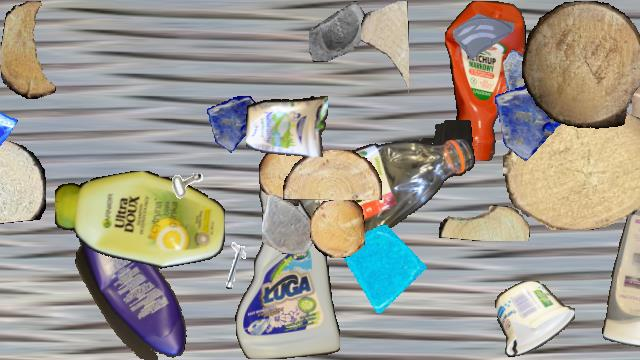glass: (343, 225, 431, 313), (493, 79, 577, 163), (453, 1, 515, 63), (309, 1, 369, 61), (262, 195, 320, 253), (503, 46, 559, 102), (207, 96, 263, 152), (0, 94, 18, 164)
metal: (151, 143, 211, 203), (211, 242, 267, 298)
plastic: (297, 120, 475, 238), (235, 169, 339, 359), (72, 217, 192, 359), (55, 171, 225, 271), (445, 1, 525, 161), (495, 281, 575, 357), (601, 206, 640, 346), (246, 92, 328, 156)
wood: (503, 109, 640, 229), (522, 1, 640, 129), (1, 1, 61, 99), (283, 150, 381, 200), (361, 1, 409, 97), (0, 136, 46, 224), (439, 205, 529, 241), (310, 200, 364, 258), (259, 146, 309, 206), (632, 1, 640, 263)
